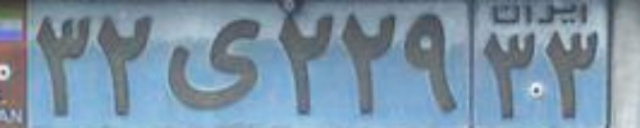2: (93, 13, 156, 117), (338, 14, 398, 114), (274, 14, 330, 114)
3: (32, 14, 91, 117), (544, 29, 595, 120), (481, 29, 531, 118)
9: (404, 15, 460, 114)
ye: (165, 17, 261, 111)
